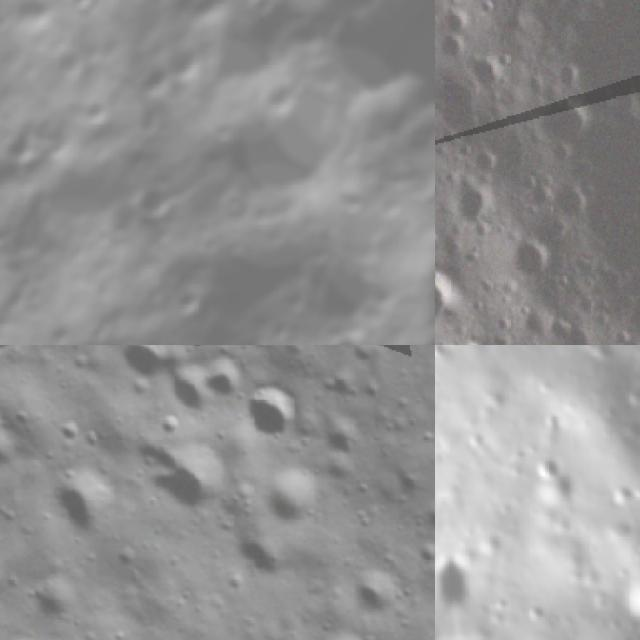crater: (196, 56, 380, 251), (295, 236, 404, 345), (136, 419, 242, 528), (248, 456, 336, 544), (219, 517, 307, 605), (39, 462, 124, 552), (232, 376, 314, 457), (343, 564, 412, 632), (24, 566, 91, 634), (156, 361, 222, 429), (105, 345, 186, 399), (148, 22, 212, 90), (0, 129, 34, 249), (191, 350, 252, 412), (252, 70, 308, 128), (156, 278, 212, 334), (537, 102, 595, 154), (443, 182, 497, 236), (318, 415, 370, 469), (505, 243, 564, 288), (0, 420, 33, 493), (46, 414, 89, 456), (525, 444, 568, 486), (235, 0, 293, 31), (550, 186, 592, 228), (450, 550, 480, 604), (620, 555, 640, 634), (467, 56, 505, 96), (393, 309, 435, 345), (435, 269, 459, 327), (7, 399, 44, 436), (229, 320, 280, 345), (415, 491, 435, 552), (442, 8, 478, 40), (438, 35, 469, 71), (60, 0, 106, 23)
